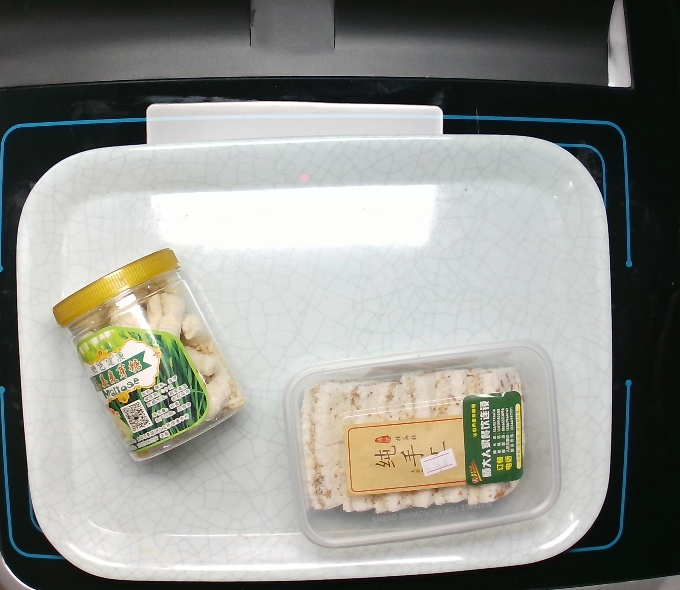wcq-GuiHuaGao: (276, 335, 568, 554)
wcq-MaiYaTang: (45, 244, 248, 465)
